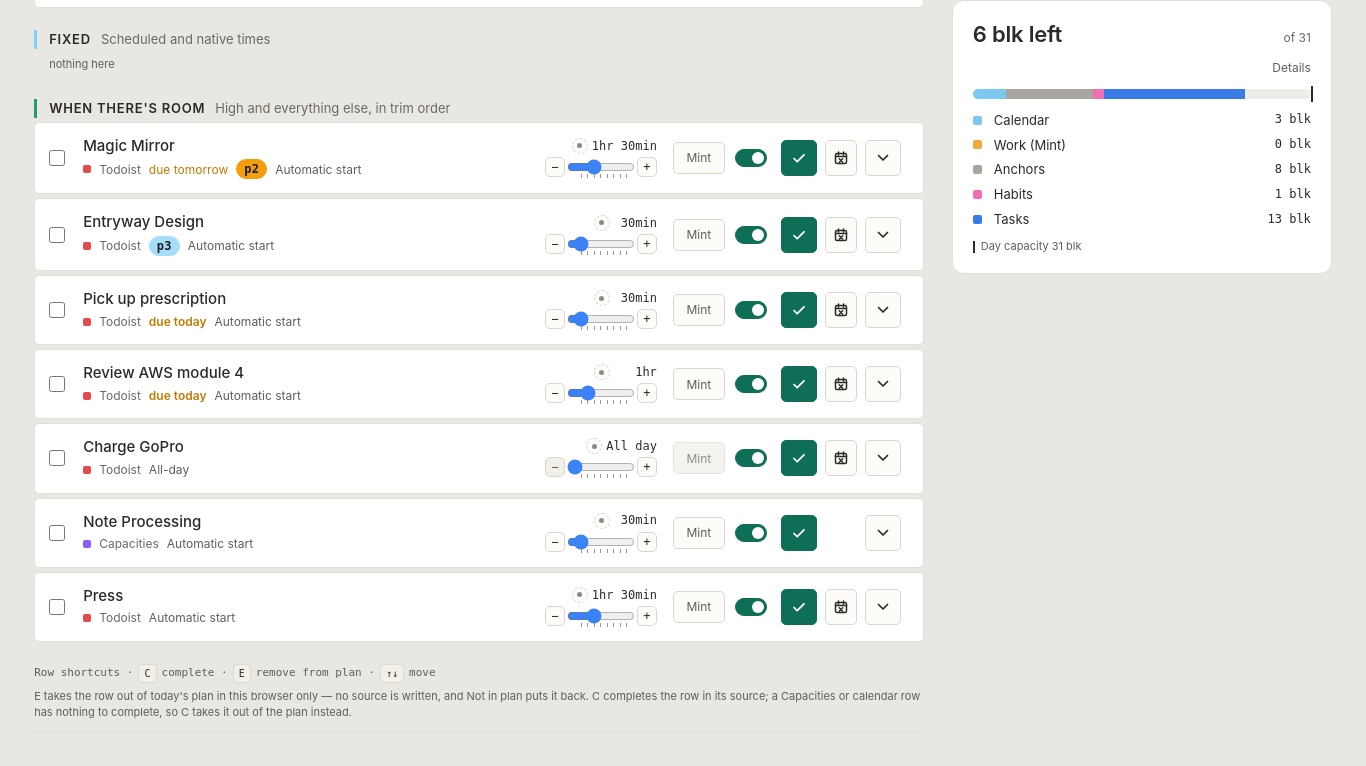
Keep all-day: eligibility of the expanded row's All-day toggle › is enabled for a Capacities row (local plan state, no source write)
The image size is (1366, 766).
(page scrolled)
Click the button named "Expand" in the row of "Note Processing": (883, 533) [865,515,901,551]
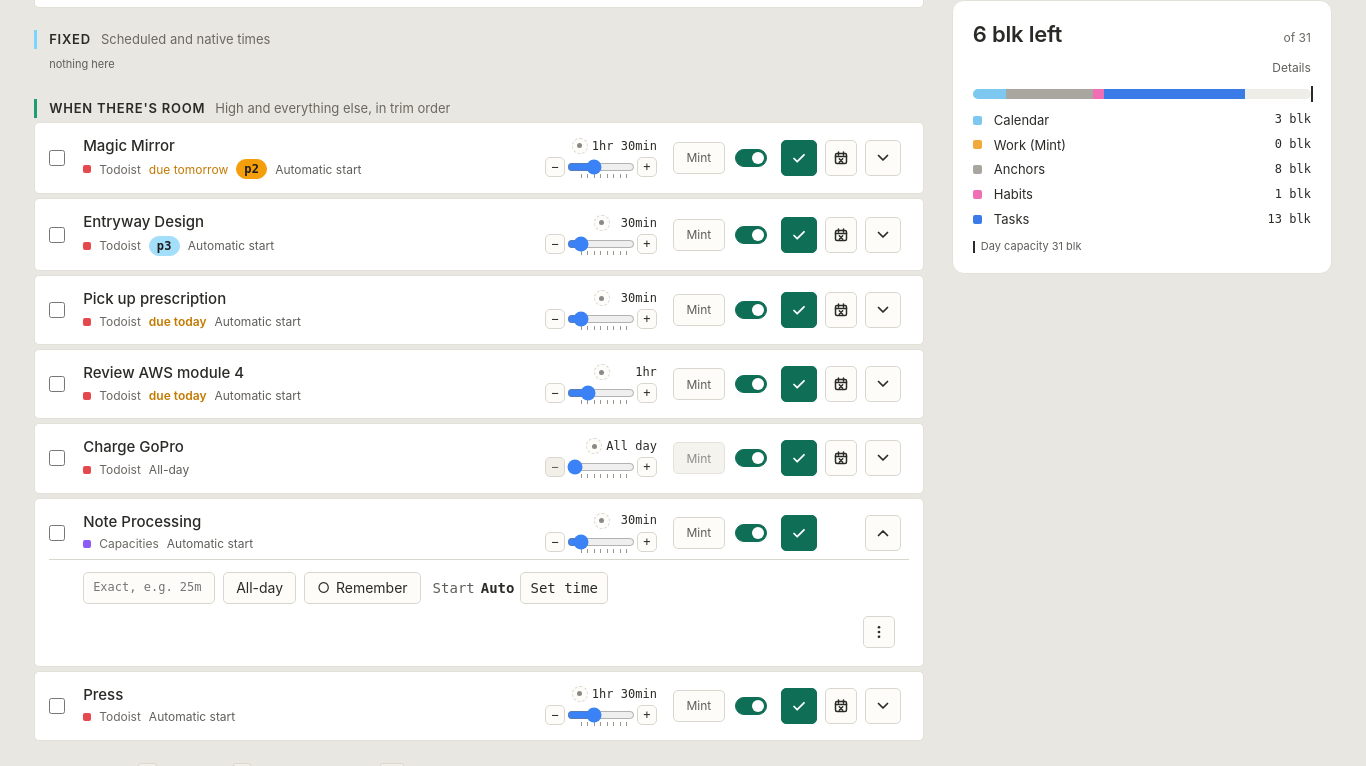
Expected: the button "All-day" is enabled, [223,572,296,604]
